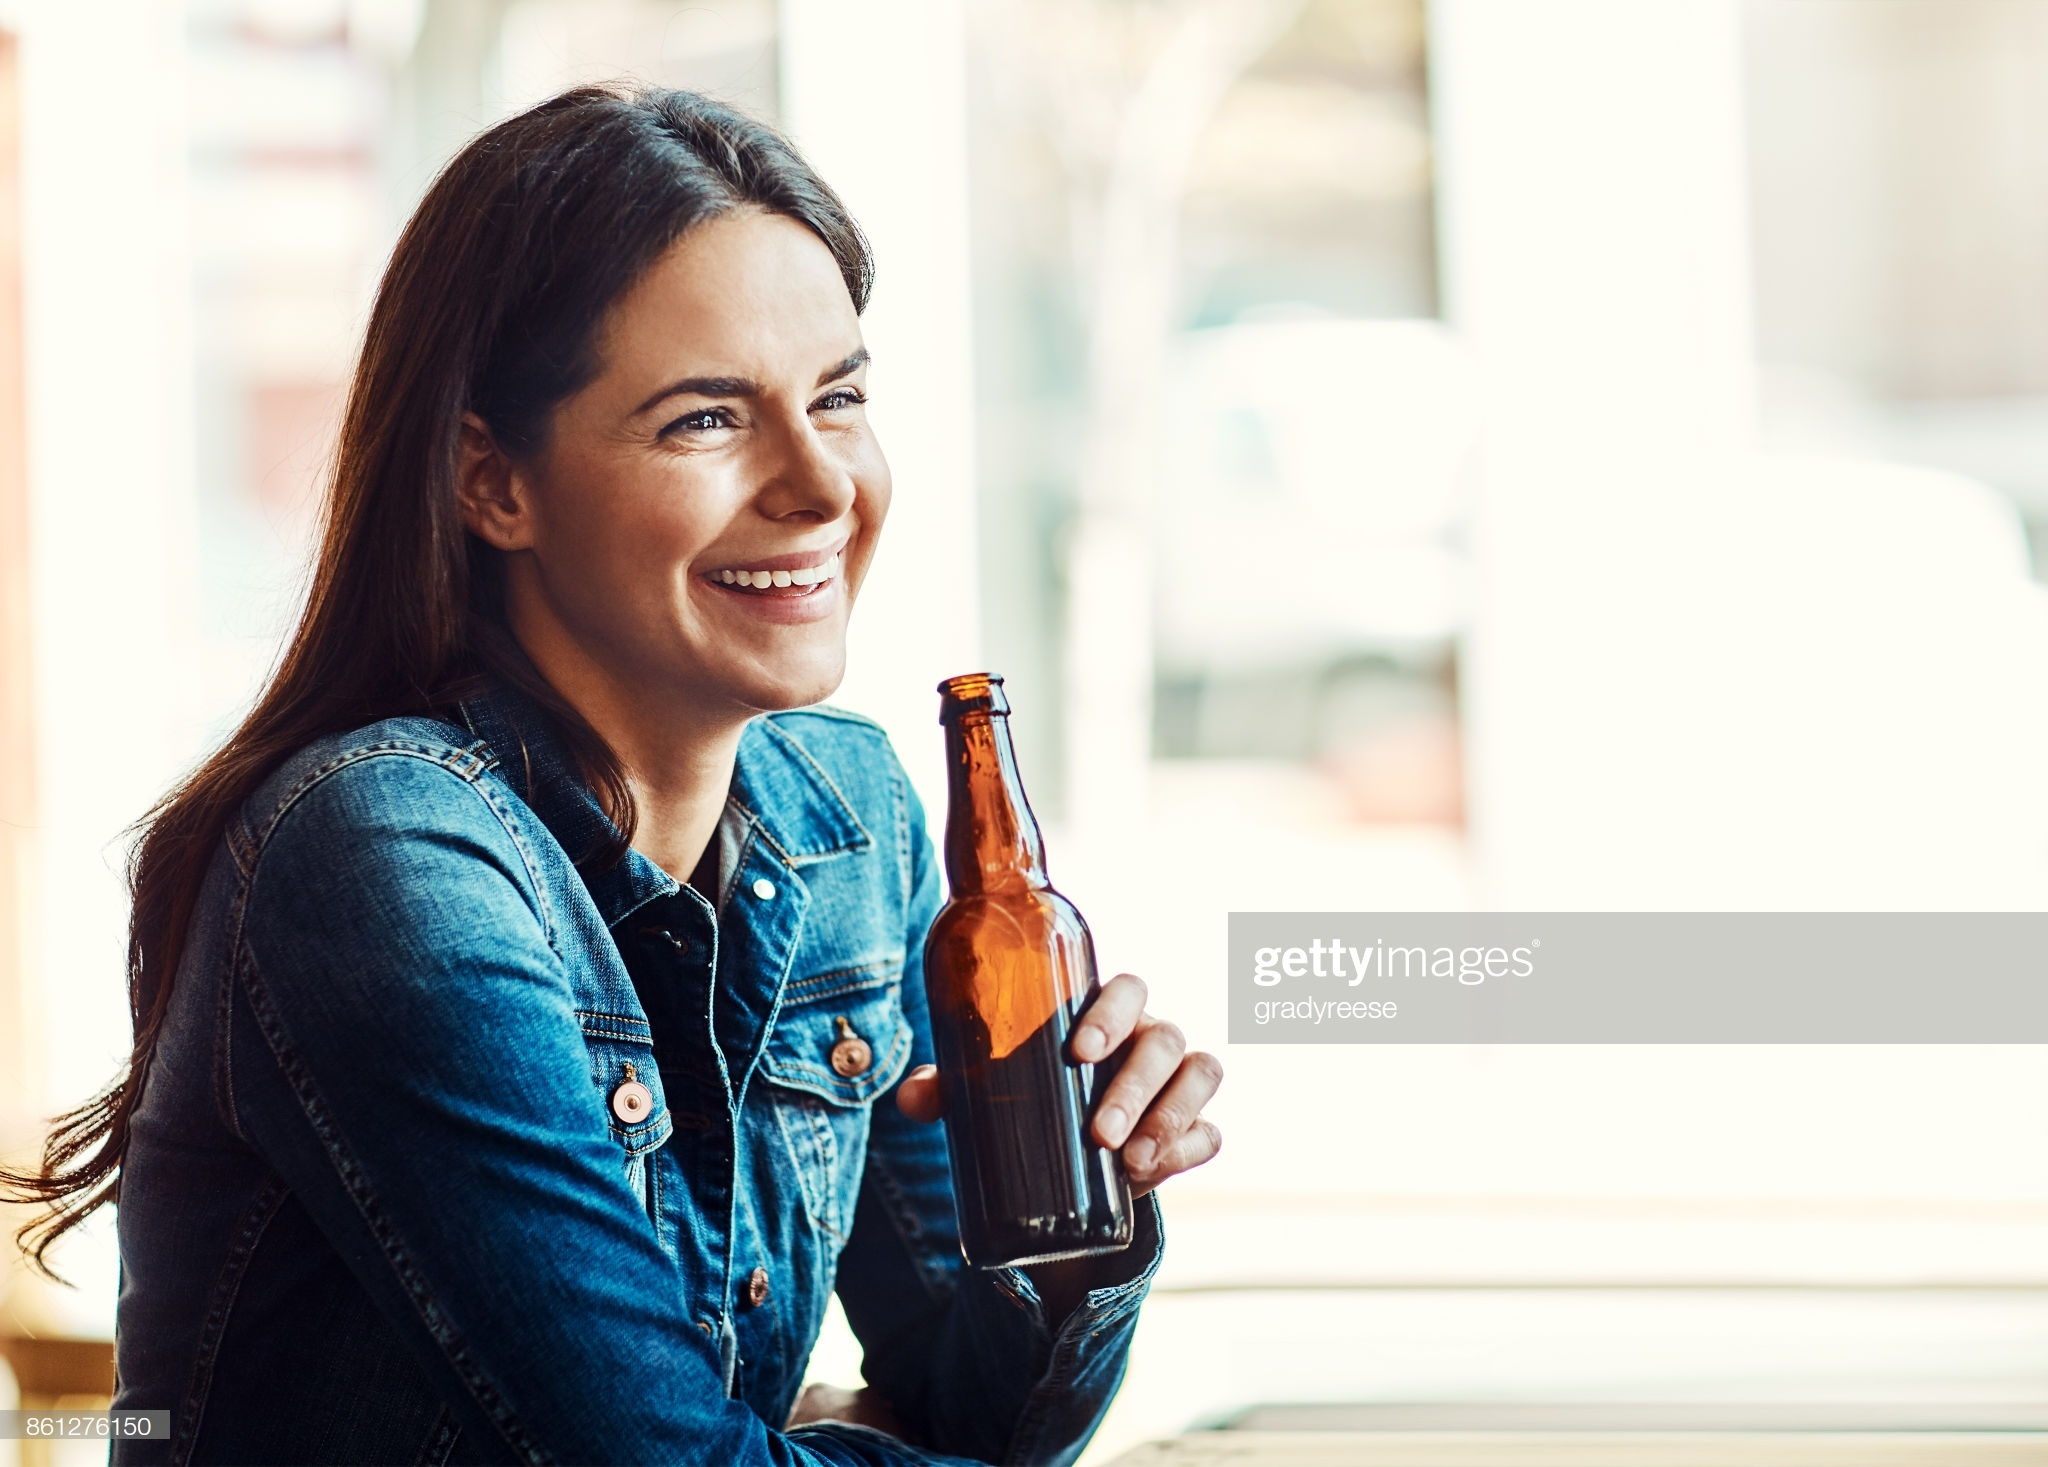beerBottle: (911, 676, 1146, 1246)
